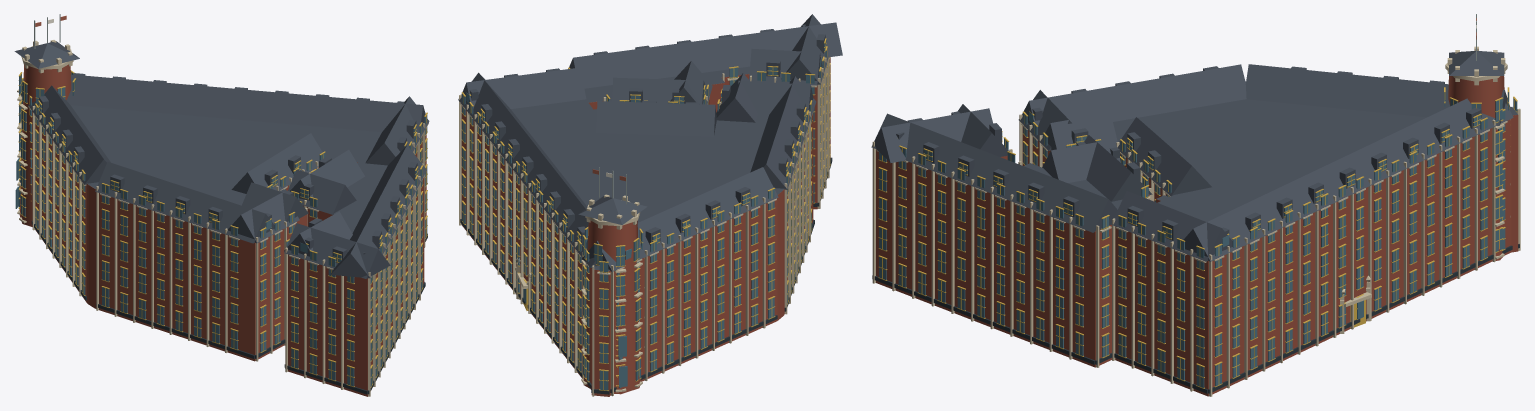
File: scheepvaarthuis.glb
3 renders of one model, left to right at view 1: azimuth 30°, elevation 25°; view 2: azimuth 150°, elevation 25°; view 3: azimuth 270°, elevation 25°, orthographic. The views are drawn at different scales.
Parts seen in each view (by area): view 1: scheepvaarthuis; view 2: scheepvaarthuis; view 3: scheepvaarthuis.
Part boxes in pixels (bbox=[...]): scheepvaarthuis: bbox=[14, 14, 429, 396]; scheepvaarthuis: bbox=[458, 14, 842, 396]; scheepvaarthuis: bbox=[871, 14, 1520, 396].
Bounding box in the file's own units: 65.83 × 38.9 × 99.9.
